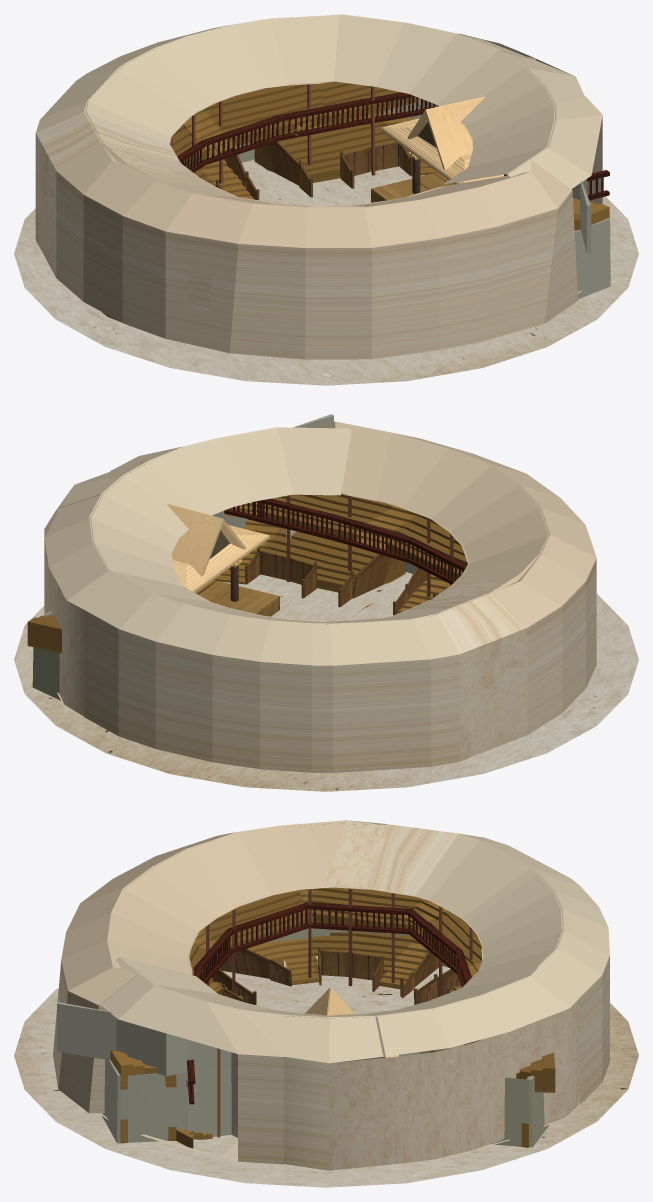
The model's file is final_globe.fbx.
3 views of the same model, one above another, from view 1: azimuth 30°, elevation 25°; view 2: azimuth 150°, elevation 25°; view 3: azimuth 270°, elevation 25° (orthographic).
Visible parts, largest first — view 1: pCube250, pDisc1, pCube256, pCube254, pCube68, pCube34, pCube29, pCube1, polySurface32, polySurface7, polySurface9; view 2: pCube250, pDisc1, pCube256, pCube254, pCube33, pCube29, pCube1, polySurface47, polySurface50, pCube50, pCube68; view 3: pCube250, pDisc1, pCube256, pCube68, pCube254, polySurface47, polySurface60, pCube154, pCube155.
Part boxes in pixels (x1,y1,x2,y2): pCube250: (35,14,602,359); pDisc1: (14,159,638,385); pCube256: (102,81,609,321); pCube254: (177,92,609,200); pCube68: (571,179,610,299); pCube34: (425,97,484,170); pCube29: (381,118,508,184); pCube1: (371,172,453,202); polySurface32: (255,140,299,185); polySurface7: (370,142,399,171); polySurface9: (343,147,370,175); pCube250: (44,421,596,772); pDisc1: (14,572,638,791); pCube256: (27,493,467,653); pCube254: (224,498,466,584); pCube33: (167,504,222,576); pCube29: (172,525,269,592); pCube1: (195,580,279,616); polySurface47: (32,611,60,700); polySurface50: (352,554,403,598); pCube50: (260,550,286,580); pCube68: (212,414,416,580); pCube250: (53,820,609,1170); pDisc1: (14,956,638,1187); pCube256: (110,887,555,1148); pCube68: (57,1002,237,1143); pCube254: (187,902,472,1104); polySurface47: (399,1012,559,1147); polySurface60: (217,948,270,978); pCube154: (320,950,348,976); pCube155: (352,952,380,980).
Bounding box in the file's own units: 383 × 133 × 383.
